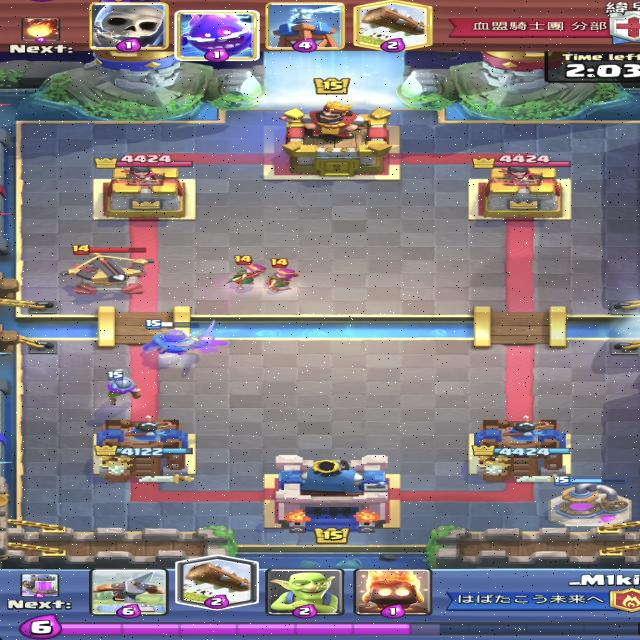Enemy-Archer: (255, 258, 302, 293), (227, 253, 266, 290)
Enemy-XBow: (60, 245, 158, 296)
Player-ElixirPump: (548, 475, 635, 528)
Player-Knight: (136, 319, 222, 358)
Player-Musketeer: (100, 367, 142, 405)
